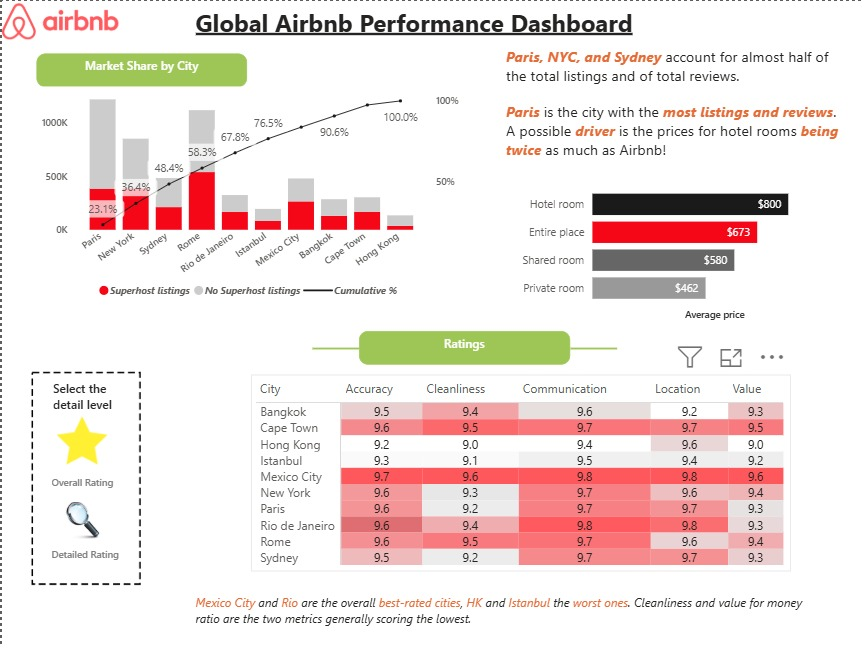

What the dashboard file says about the page in this screenshot:
{"tool":"powerbi","page":{"name":"Ratings","canvas":[960,720],"ordinal":1},"visuals":[{"type":"textbox","box":[210.4,0,539.2,58.3],"z":0},{"type":"image","box":[51.8,458.2,74.5,59.9],"z":0,"group":"g1"},{"type":"image","box":[64.8,557,48.6,42.1],"z":0,"group":"g2"},{"type":"image","box":[0,0,129.5,45.3],"z":1000},{"type":"textbox","box":[50.2,518.1,93.9,38.9],"z":1000,"group":"g1"},{"type":"textbox","box":[50.2,599.1,87.4,38.9],"z":1000,"group":"g2"},{"type":"textbox","box":[38.6,58.6,234.3,37.1],"z":2000},{"type":"textbox","box":[555.4,45.3,388.6,142.5],"z":3000},{"type":"lineStackedColumnComboChart","fields":{"Category":["Listings.city"],"Y":["Listings.Superhost listings","Listings.No Superhost listings"],"Y2":["Listings.Cumulative %"]},"box":[38.9,95.5,474.4,244.5],"z":4000},{"type":"barChart","fields":{"Category":["Listings.room_type"],"Y":["Listings.Average price"]},"box":[566.7,187.8,365.9,171.6],"z":5000},{"type":"textbox","box":[210.5,652.5,707.6,55.1],"z":7000},{"type":"textbox","box":[396.7,365.9,234.8,37.2],"z":8000},{"type":"shape","box":[344.9,367.6,51.8,35.6],"z":9000},{"type":"shape","box":[631.5,367.6,51.8,35.6],"z":10000},{"type":"image","box":[0,403.2,187.8,254.2],"z":11000},{"type":"textbox","box":[51.8,414.5,92.3,48.6],"z":13000},{"type":"pivotTable","fields":{"Rows":["Listings.city"],"Values":["Listings.Accuracy","Listings.Cleanliness","Listings.Communication","Listings.Location","Listings.Value"]},"box":[276.9,414.5,599.1,218.6],"z":14500},{"type":"group","id":"g1","title":"Group 1","box":[50.2,458.2,93.9,98.8],"z":15000},{"type":"group","id":"g2","title":"Group 2","box":[50.2,557,87.4,81],"z":16000}]}

Visuals, with their boxes in screenshot pixels (x1, y1, x2, y2), scaled from the page's 960x720 canvas onto the 865x648 screenshot:
textbox: detection(190, 0, 675, 52)
image: detection(47, 412, 114, 466)
image: detection(58, 501, 102, 539)
image: detection(0, 0, 117, 41)
textbox: detection(45, 466, 130, 501)
textbox: detection(45, 539, 124, 574)
textbox: detection(35, 53, 246, 86)
textbox: detection(500, 41, 851, 169)
lineStackedColumnComboChart - Listings.city x Listings.Superhost listings: detection(35, 86, 463, 306)
barChart - Listings.room_type x Listings.Average price: detection(511, 169, 840, 323)
textbox: detection(190, 587, 827, 637)
textbox: detection(357, 329, 569, 363)
shape: detection(311, 331, 357, 363)
shape: detection(569, 331, 616, 363)
image: detection(0, 363, 169, 592)
textbox: detection(47, 373, 130, 417)
pivotTable - Listings.city x Listings.Accuracy: detection(249, 373, 789, 570)
"Group 1" group: detection(45, 412, 130, 501)
"Group 2" group: detection(45, 501, 124, 574)
